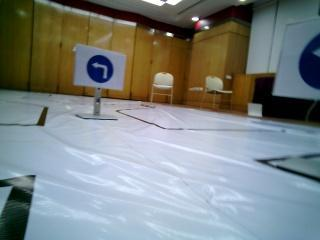left: (81, 49, 123, 83)
